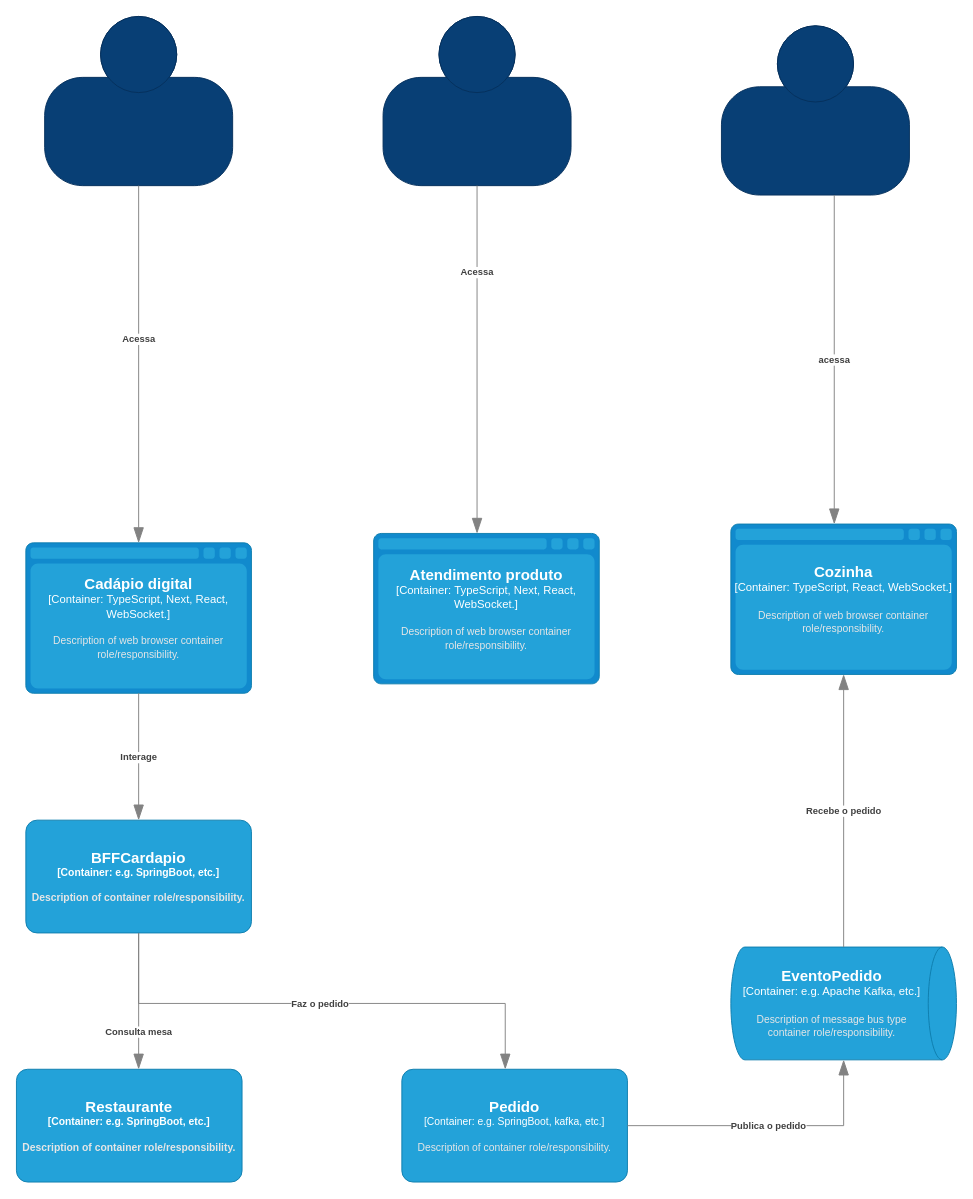
Some shapes in this 973 by 1199 pixel diagram are drawn without their labels. The shapes that lost their labels are listed below. From the top down, each one's centre as x and y in pixels, then its label:
the point at 138,101: Cliente [Person] Solicita os produtos vendidos pelo estabelecimento para consumo
the point at 476,101: Atendente [Person] Gerencia os produtos por mesa
the point at 815,110: Cozinheiro [Person] Notifica a finalização da preparação do produto
